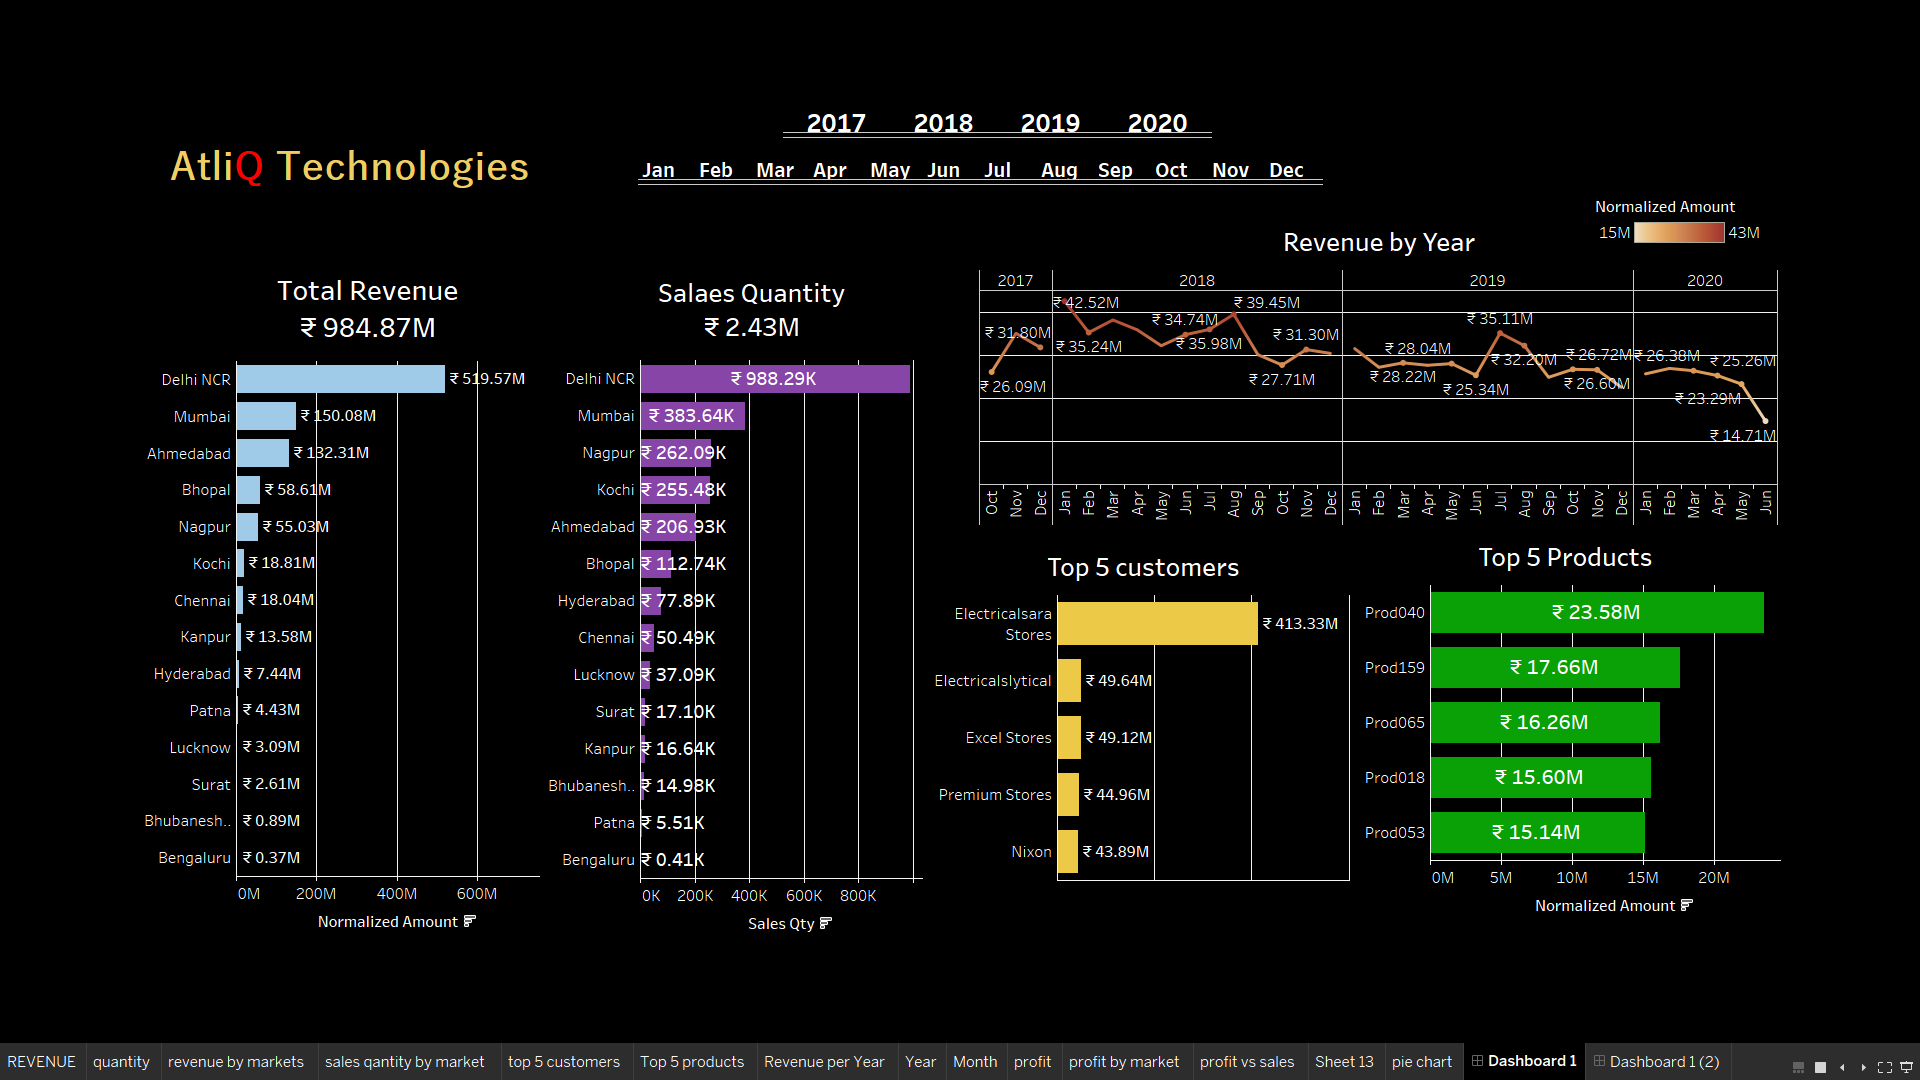

What the dashboard file says about the page in this screenshot:
{"tool":"tableau","page":{"name":"Dashboard 1","canvas":[1650,850],"ordinal":0},"visuals":[{"type":"worksheet","title":"Year","mark":"Automatic","cols":["cy_date"],"box":[648,1,446,62]},{"type":"worksheet","box":[25,25,375,78]},{"type":"worksheet","title":"Month","mark":"Automatic","cols":["cy_date"],"box":[503,47,715,58]},{"type":"worksheet","title":"Revenue per Year","mark":"Line","rows":["Calculation_1130122082506117121"],"cols":["cy_date","cy_date"],"param":"[federated.1wn63oq0kgk8pm16fl8hp06h48ja].[sum:Calculation_1130122082506117121:qk","box":[1460,100,170,65]},{"type":"worksheet","title":"Revenue per Year","mark":"Line","rows":["Calculation_1130122082506117121"],"cols":["cy_date","cy_date"],"box":[844,124,800,306]},{"type":"worksheet","title":"quantity","mark":"Automatic","box":[517,164,211,115]},{"type":"worksheet","title":"REVENUE","mark":"Automatic","box":[133,175,201,96]},{"type":"worksheet","title":"sales qantity by market","mark":"Automatic","rows":["markets_name"],"cols":["sales_qty"],"box":[413,264,375,585]},{"type":"worksheet","title":"revenue by markets","mark":"Automatic","rows":["markets_name"],"cols":["Calculation_1130122082506117121"],"box":[9,265,396,578]},{"type":"worksheet","title":"Top 5 products","mark":"Automatic","rows":["product_code (products)"],"cols":["Calculation_1130122082506117121"],"box":[1215,439,431,407]},{"type":"worksheet","title":"top 5 customers","mark":"Automatic","rows":["custmer_name"],"cols":["Calculation_1130122082506117121"],"box":[798,449,421,397]}]}

Visuals, with their boxes on the page's 1650x850 design canvas (x1, y1, x2, y2). These are canvas units, not pixel positions in the 1920x1080 screenshot, which may show the page scaled, cropped or inside an application window:
"Year" worksheet: (648, 1, 1094, 63)
worksheet: (25, 25, 400, 103)
"Month" worksheet: (503, 47, 1218, 105)
"Revenue per Year" worksheet (Line marks): (1460, 100, 1630, 165)
"Revenue per Year" worksheet (Line marks): (844, 124, 1644, 430)
"quantity" worksheet: (517, 164, 728, 279)
"REVENUE" worksheet: (133, 175, 334, 271)
"sales qantity by market" worksheet: (413, 264, 788, 849)
"revenue by markets" worksheet: (9, 265, 405, 843)
"Top 5 products" worksheet: (1215, 439, 1646, 846)
"top 5 customers" worksheet: (798, 449, 1219, 846)
